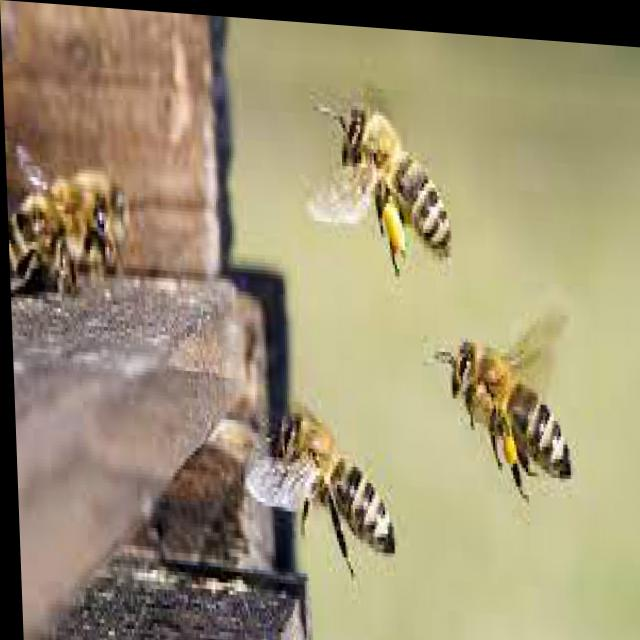Abeille: (285, 65, 461, 283), (424, 302, 598, 491), (250, 389, 404, 580), (4, 151, 120, 296)
